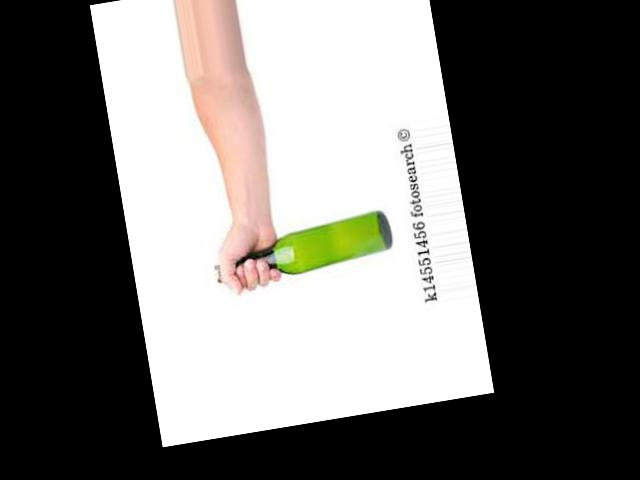beer: (210, 208, 395, 286)
